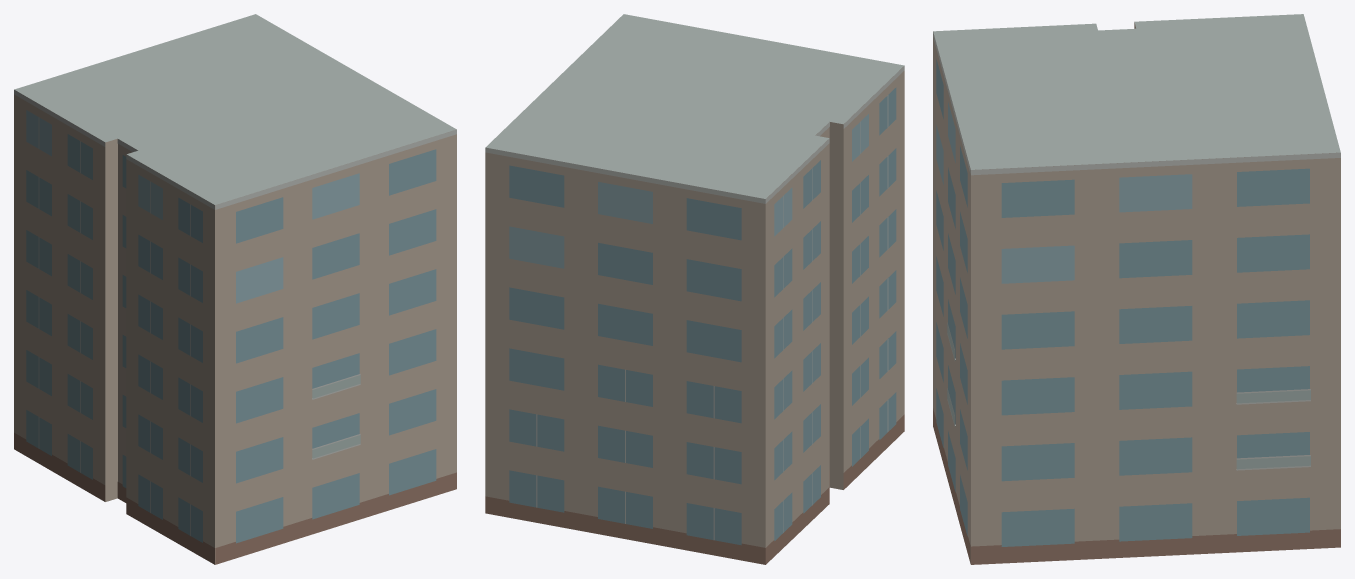
File: survey-upis-32928073.glb
The picture shows the model from 3 angles, left to right: view 1: azimuth 30°, elevation 25°; view 2: azimuth 150°, elevation 25°; view 3: azimuth 270°, elevation 25°; orthographic projection. The views are drawn at different scales.
Visible parts, largest first — view 1: survey-upis-32928073.tmp; view 2: survey-upis-32928073.tmp; view 3: survey-upis-32928073.tmp.
Boxes of the visible parts, x1,y1,x2,y2 form: survey-upis-32928073.tmp: (14,14,456,564); survey-upis-32928073.tmp: (485,14,904,564); survey-upis-32928073.tmp: (933,14,1340,564).
Bounding box in the file's own units: 15.38 × 18.15 × 16.99.
